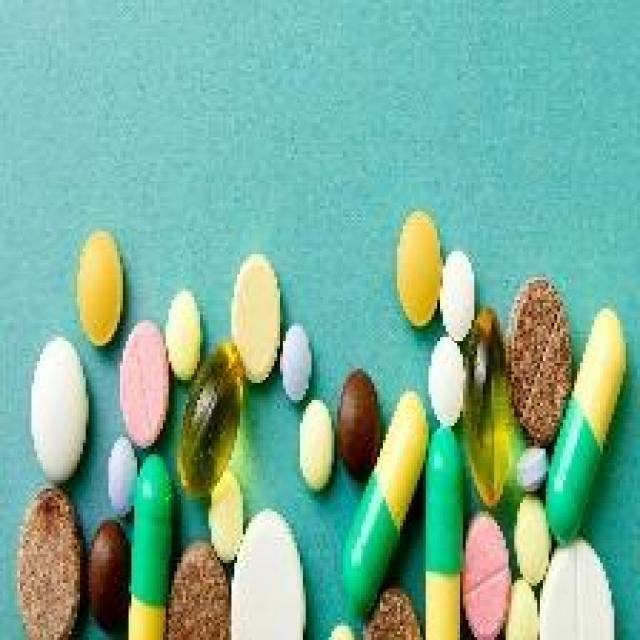Medicine: (0, 199, 640, 640)
